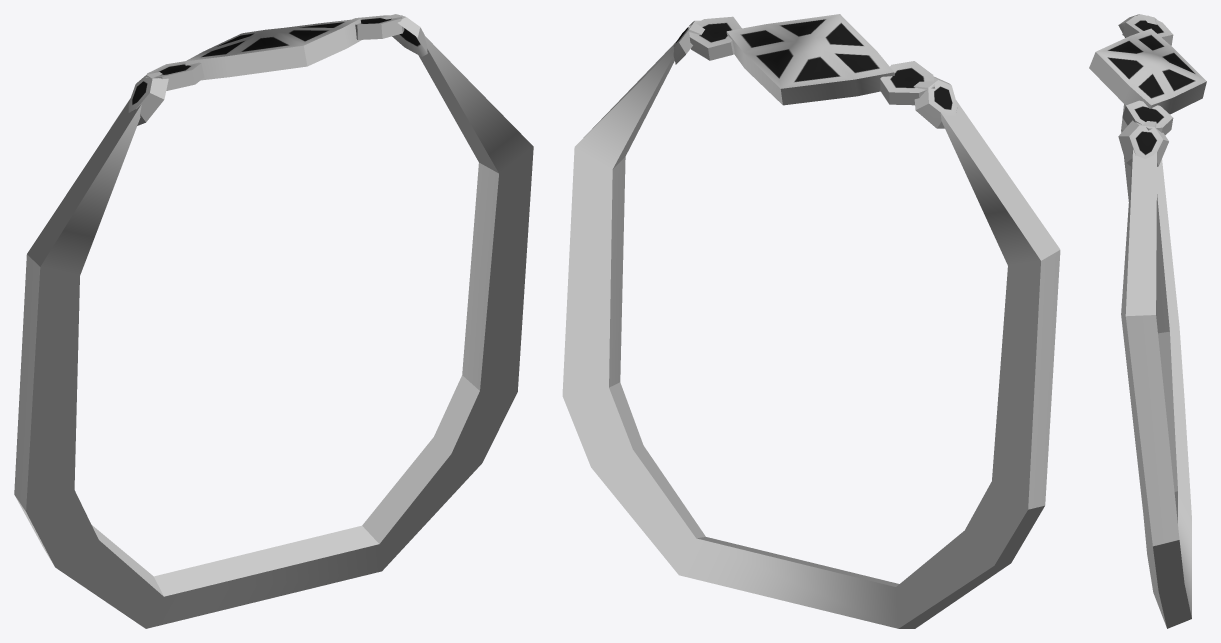
Rendered from Circlet_M.glb.
3 views of the same model, side by side, from view 1: azimuth 30°, elevation 25°; view 2: azimuth 150°, elevation 25°; view 3: azimuth 270°, elevation 25° (orthographic). The views are drawn at different scales.
Visible parts, largest first — view 1: Circlet_M; view 2: Circlet_M; view 3: Circlet_M.
Part boxes in pixels (x1,y1,x2,y2): Circlet_M: (14,14,533,628); Circlet_M: (562,14,1060,628); Circlet_M: (1089,14,1206,628).
Bounding box in the file's own units: 0.2318 × 0.262 × 0.0533.
Materials: 1 (1 with a texture image).
